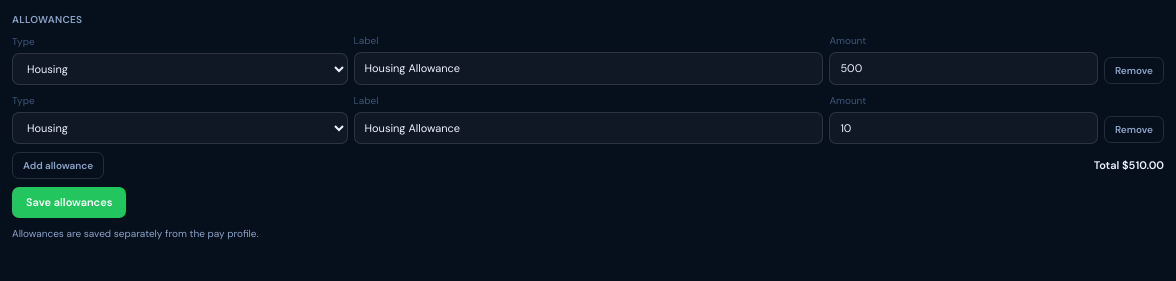
Test: ProfileAllowancesEditor › blocks a duplicate type and label and does not PUT
This screenshot has width=1176, height=281.
Click the button "Save allowances" at coordinates (69, 202), box [12, 187, 126, 218]
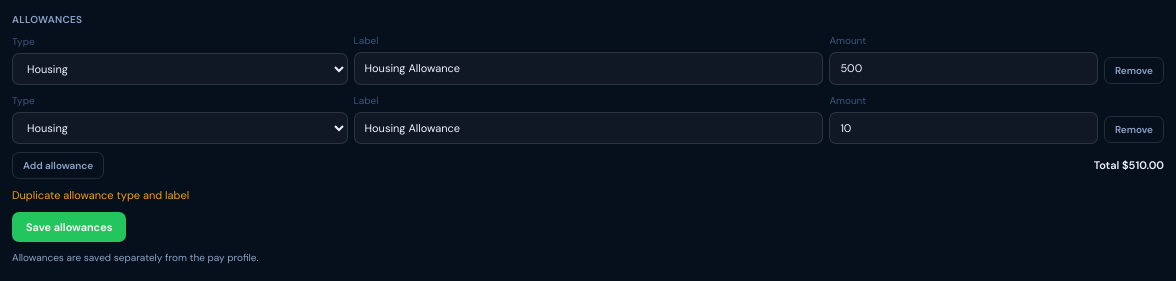
Now the text "Duplicate allowance type and label" is shown, box [12, 188, 189, 202]
